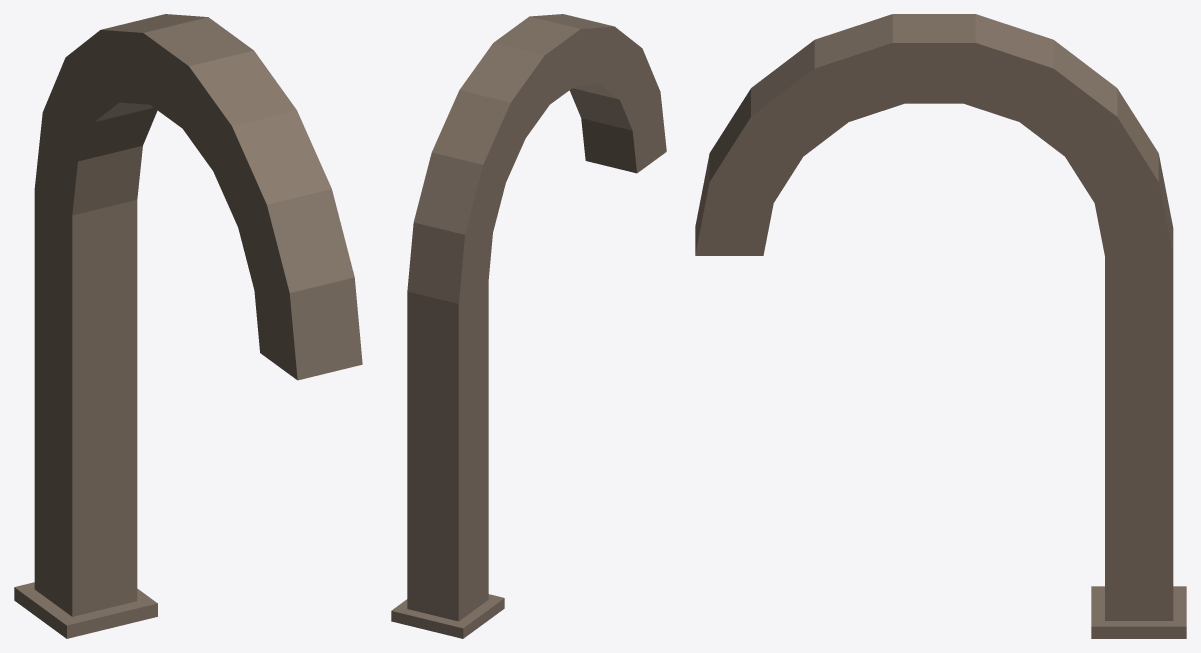
The model's file is Plumbing1_C3_02.fbx.
3 views of the same model, side by side, from view 1: azimuth 30°, elevation 25°; view 2: azimuth 150°, elevation 25°; view 3: azimuth 270°, elevation 25° (orthographic). The views are drawn at different scales.
Parts seen in each view (by area): view 1: Plumbing1_C3_02; view 2: Plumbing1_C3_02; view 3: Plumbing1_C3_02.
Boxes of the visible parts, <box> form: Plumbing1_C3_02: <box>14,14,362,638</box>; Plumbing1_C3_02: <box>391,14,666,638</box>; Plumbing1_C3_02: <box>695,14,1186,638</box>.
Bounding box in the file's own units: 2.59 × 17.66 × 13.33.
